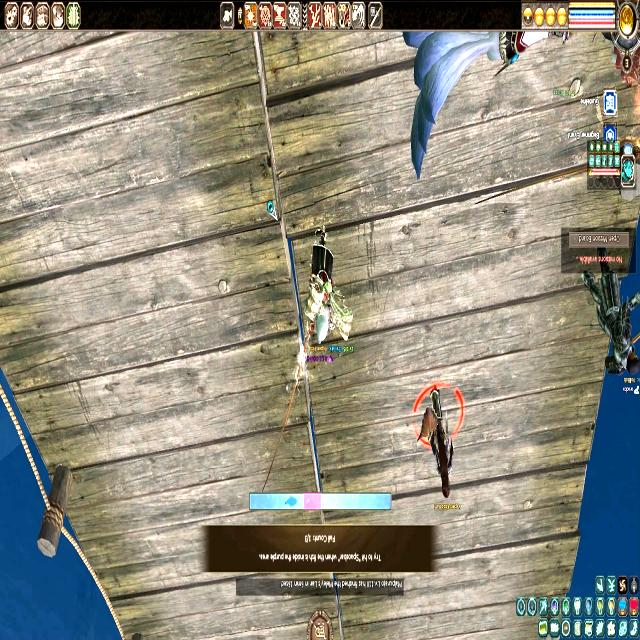fishes: (286, 495, 298, 509)
